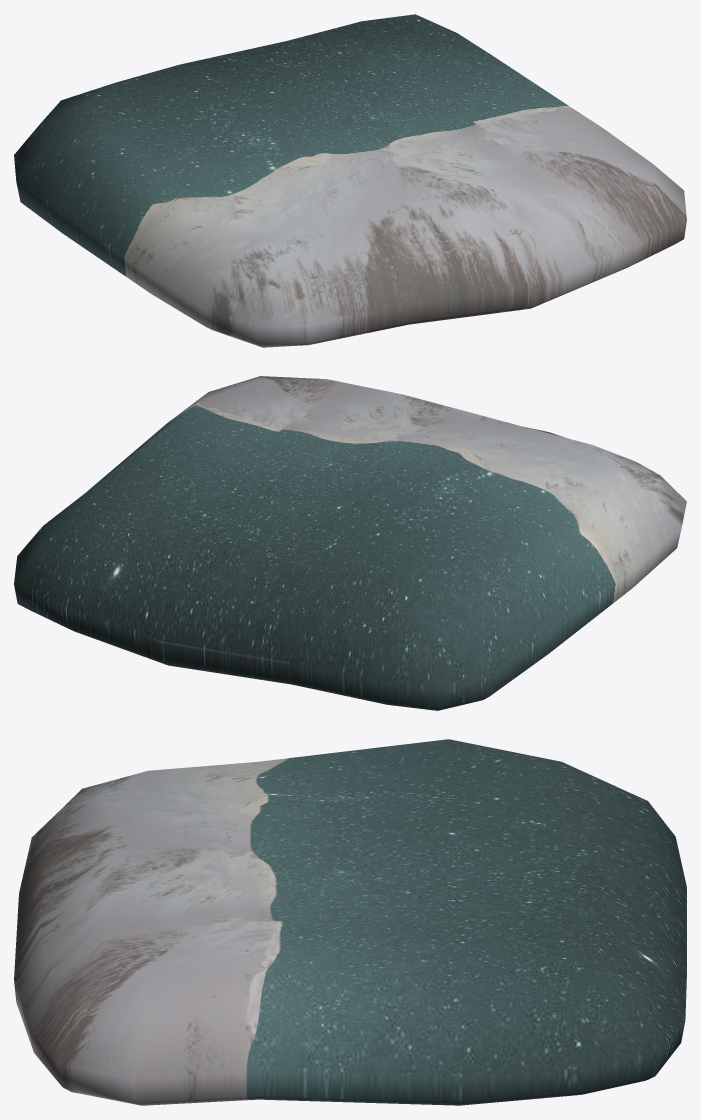
Rendered from Snow.fbx.
3 views of the same model, one above another, from view 1: azimuth 30°, elevation 25°; view 2: azimuth 150°, elevation 25°; view 3: azimuth 270°, elevation 25° (orthographic). The views are drawn at different scales.
Parts seen in each view (by area): view 1: Snow; view 2: Snow; view 3: Snow.
Boxes of the visible parts, <box> form: Snow: <box>14,14,686,347</box>; Snow: <box>14,376,686,710</box>; Snow: <box>14,739,686,1105</box>.
Bounding box in the file's own units: 6.57 × 1.44 × 6.51.
Materials: 1 (1 with a texture image).
